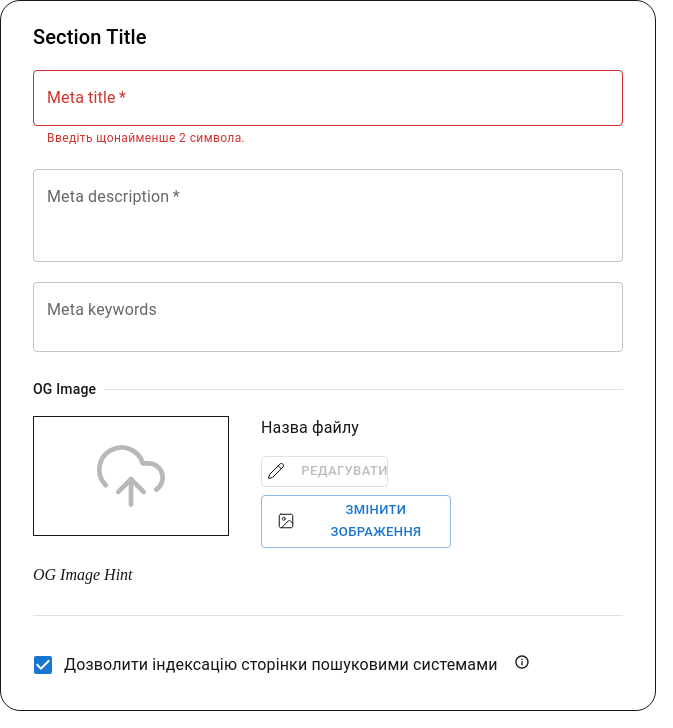
SeoMetadataForm › clears a save validation error while editing without recalculating it
The image size is (673, 728).
Expected: the text "Введіть щонайменше 2 символа." is shown, [47,131,245,145]
Type "a" into the field labelled "Meta title *" at (328, 98), box [33,70,623,126]
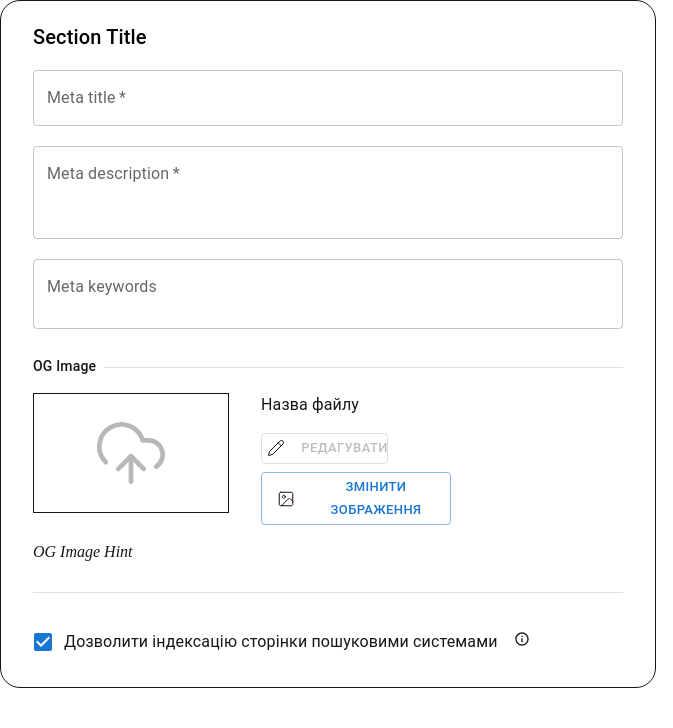
Expected: the text "Введіть щонайменше 2 символа." is gone
